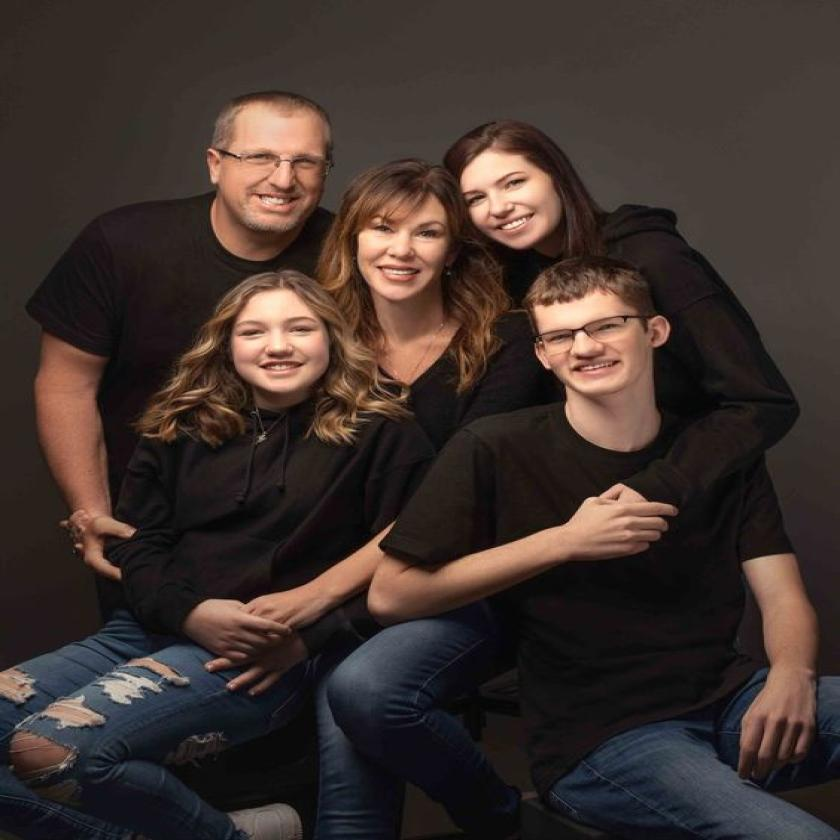Sin_casco: (520, 255, 667, 418), (200, 85, 338, 252), (444, 114, 585, 270), (213, 263, 351, 417), (340, 156, 474, 311)
